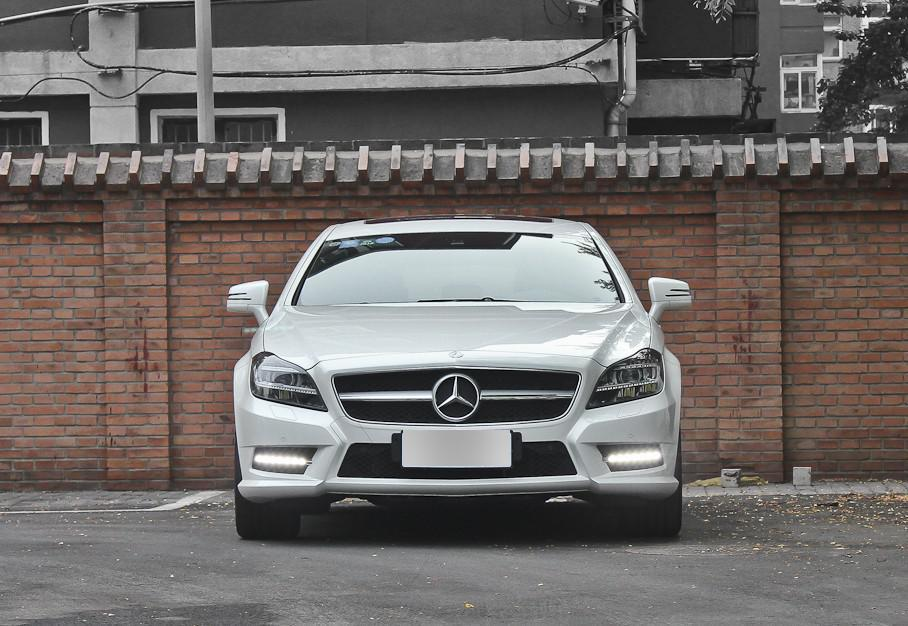Wagon: (224, 212, 694, 542)
